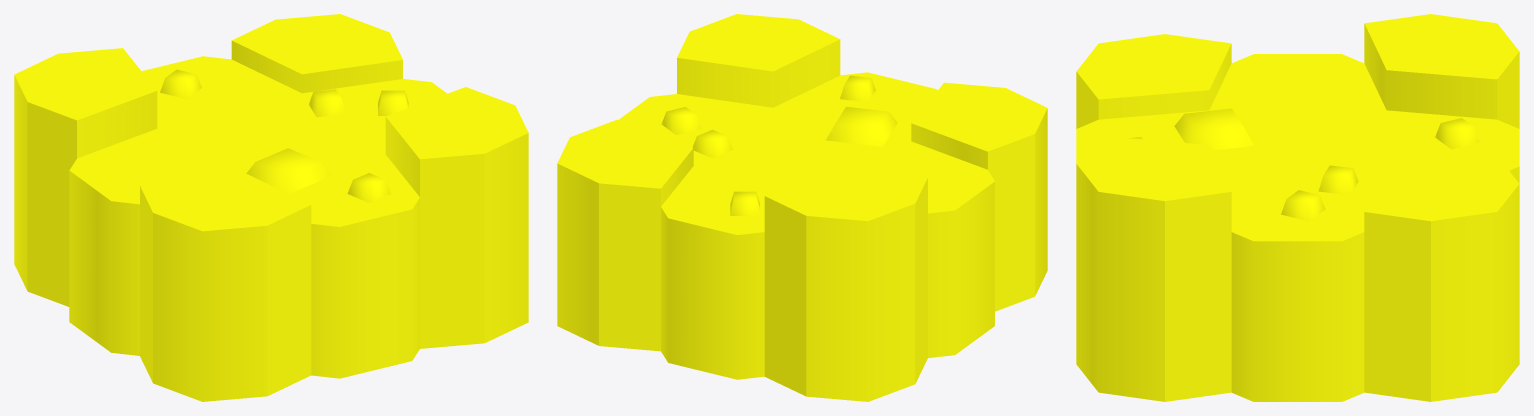
The model's file is 石头假山_石头_岩石组.glb.
3 renders of one model, left to right at view 1: azimuth 30°, elevation 25°; view 2: azimuth 150°, elevation 25°; view 3: azimuth 270°, elevation 25°, orthographic. The views are drawn at different scales.
Parts seen in each view (by area): view 1: rocks; view 2: rocks; view 3: rocks.
Boxes of the visible parts, <box> form: rocks: <box>14,14,528,401</box>; rocks: <box>557,14,1047,401</box>; rocks: <box>1076,14,1519,401</box>.
Size of the model in its own units: 1 by 0.5 by 1.
1 material, 1 textured.
